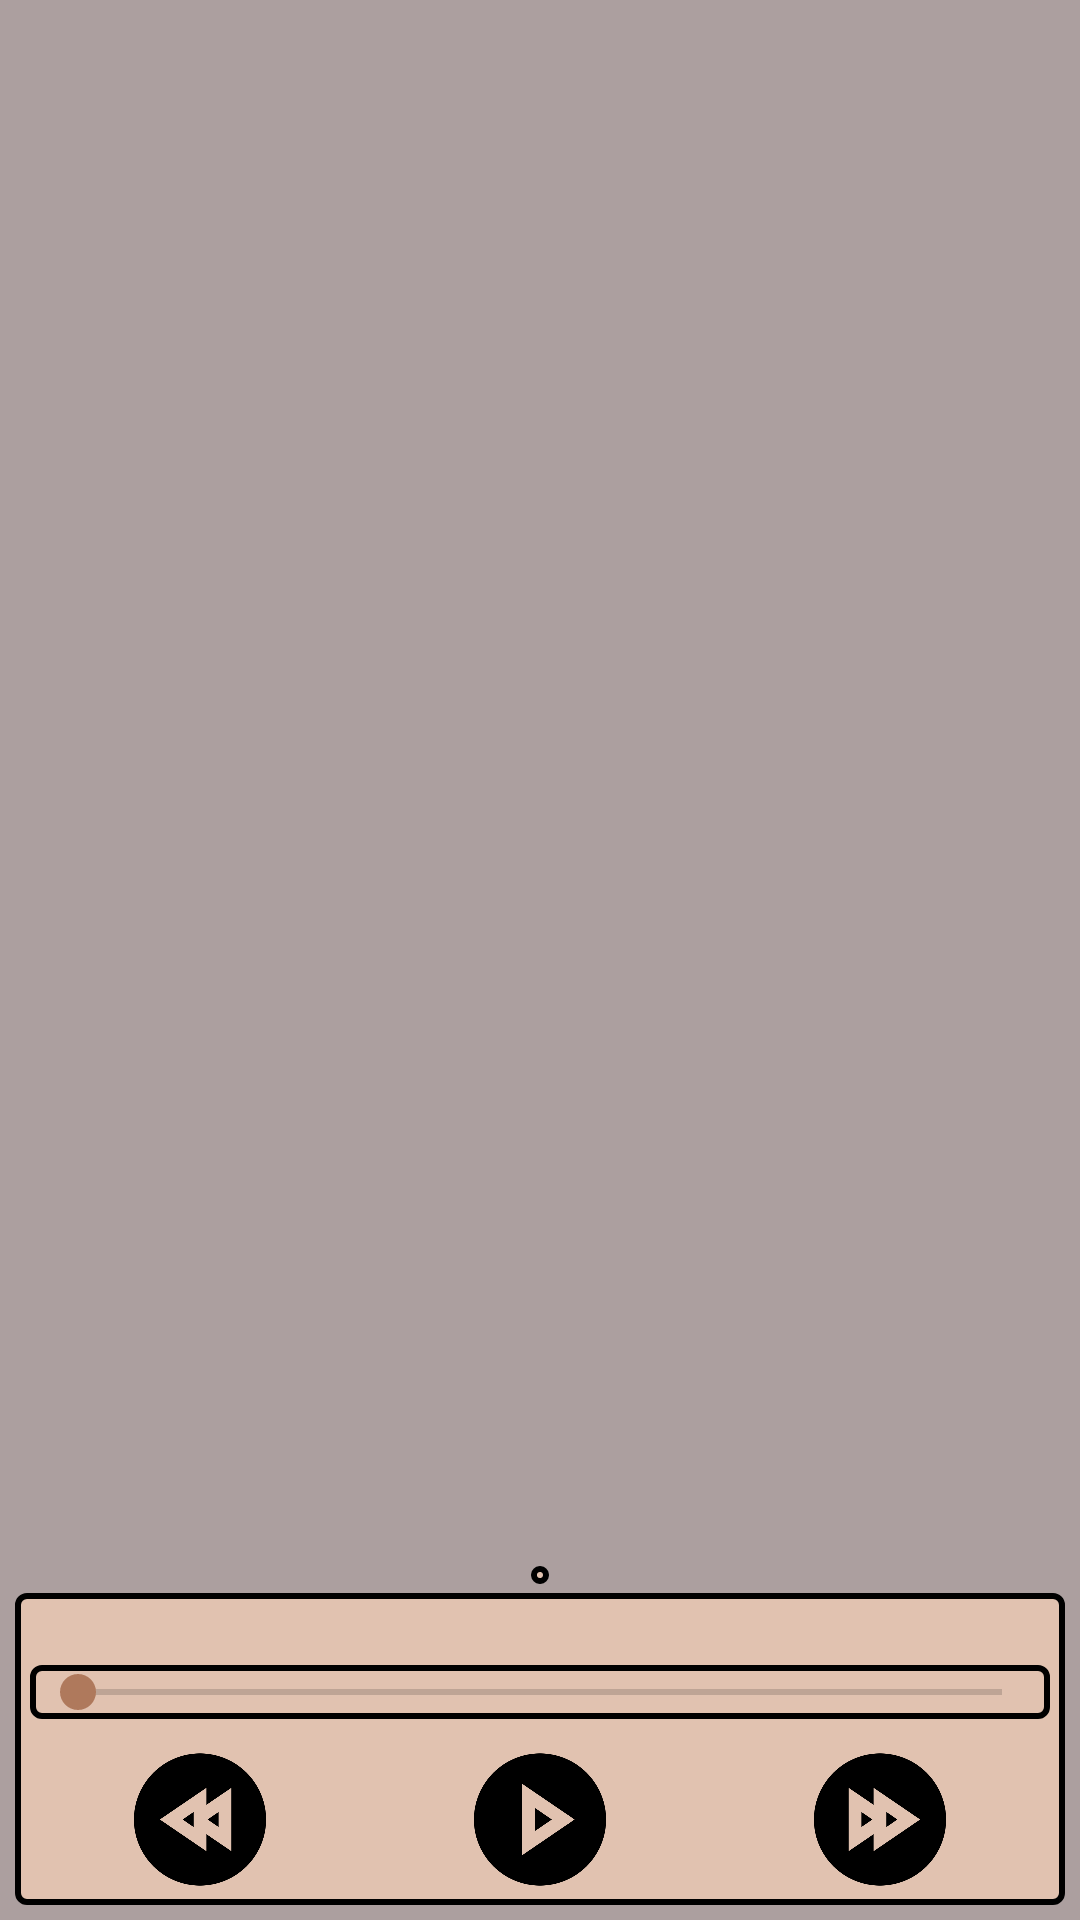

Where icons sit on this 1080×1920 app screen, as (left=x1, top=y1, right=x2, bottom=y2):
backward: (left=134, top=1753, right=266, bottom=1886)
forward: (left=814, top=1753, right=946, bottom=1886)
play: (left=474, top=1753, right=606, bottom=1886)
